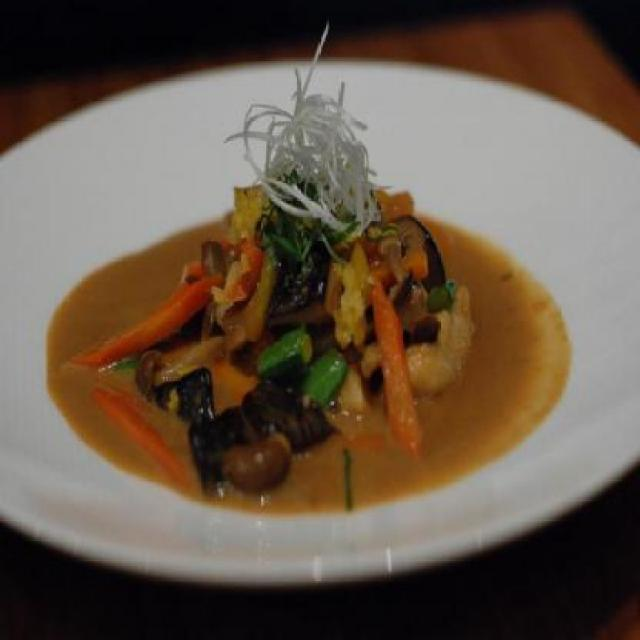Carrot: (65, 272, 229, 370), (369, 276, 425, 467), (91, 392, 195, 482)
